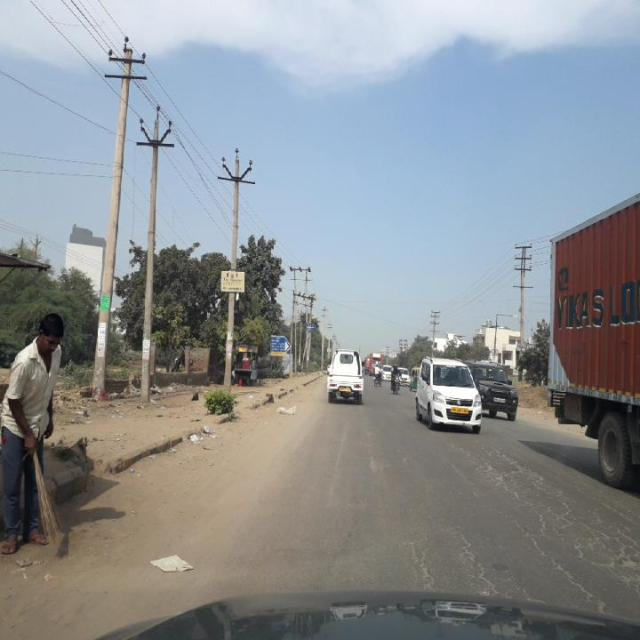D00: (410, 521, 530, 602)
D20: (529, 519, 639, 601), (466, 446, 580, 516)
